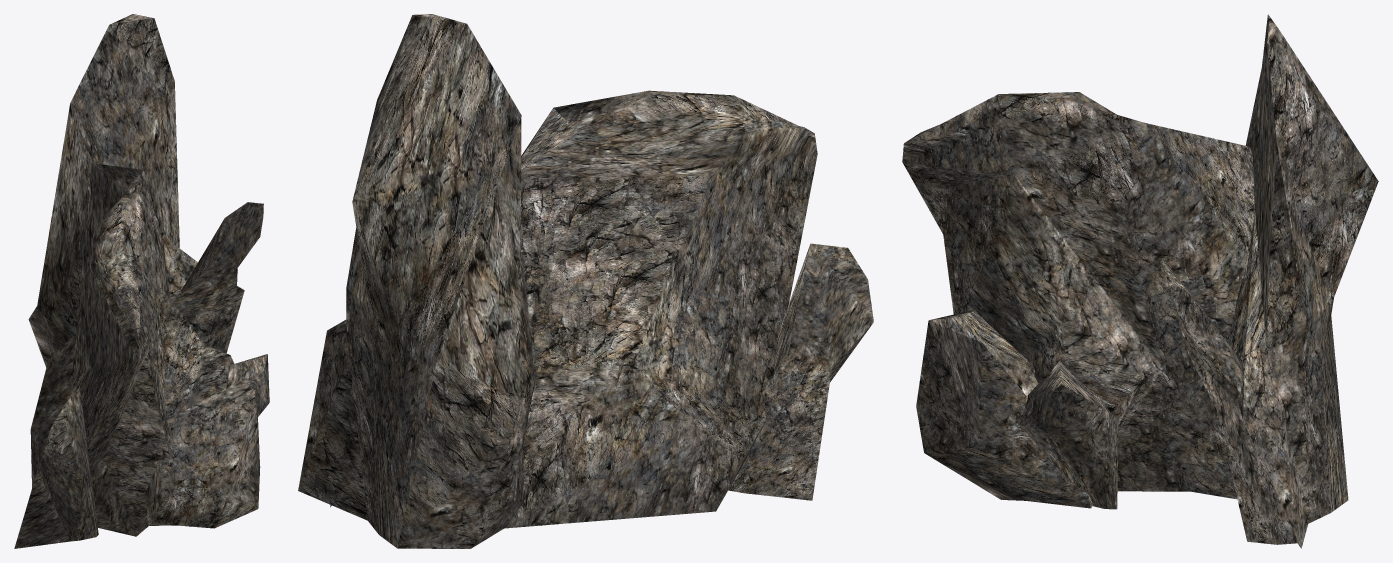
File: pir_m_prp_cav_rockGroup_b.fbx
3 renders of one model, left to right at view 1: azimuth 30°, elevation 25°; view 2: azimuth 150°, elevation 25°; view 3: azimuth 270°, elevation 25°, orthographic. The views are drawn at different scales.
Visible parts, largest first — view 1: bigrock2, small_rock4, bigrock, small_rock3, small_rock5, middle_rock1; view 2: bigrock2, small_rock4, small_rock3; view 3: bigrock2, small_rock4, bigrock, small_rock5, middle_rock1.
Boxes of the visible parts, left/top/right/bottom form: bigrock2: left=30, top=163, right=234, bottom=536; small_rock4: left=28, top=14, right=244, bottom=367; bigrock: left=144, top=378, right=260, bottom=528; small_rock3: left=14, top=387, right=98, bottom=548; small_rock5: left=173, top=202, right=263, bottom=352; middle_rock1: left=226, top=354, right=269, bottom=416; bigrock2: left=504, top=90, right=817, bottom=528; small_rock4: left=298, top=14, right=535, bottom=548; small_rock3: left=728, top=243, right=873, bottom=500; bigrock2: left=902, top=92, right=1254, bottom=499; small_rock4: left=1228, top=14, right=1378, bottom=548; bigrock: left=916, top=310, right=1092, bottom=508; small_rock5: left=1162, top=261, right=1297, bottom=544; middle_rock1: left=1019, top=361, right=1118, bottom=509.
Size of the model in its own units: 5957 by 7256 by 6511.
1 material, 1 textured.
